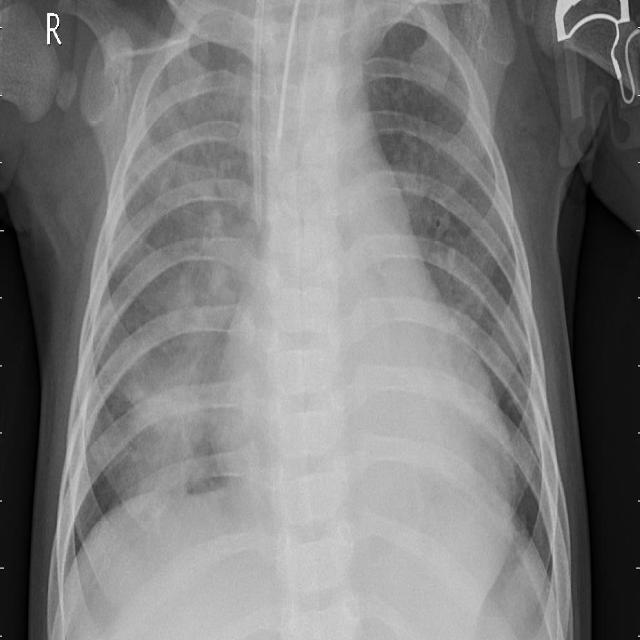low-pneumonia: (117, 248, 232, 493)
